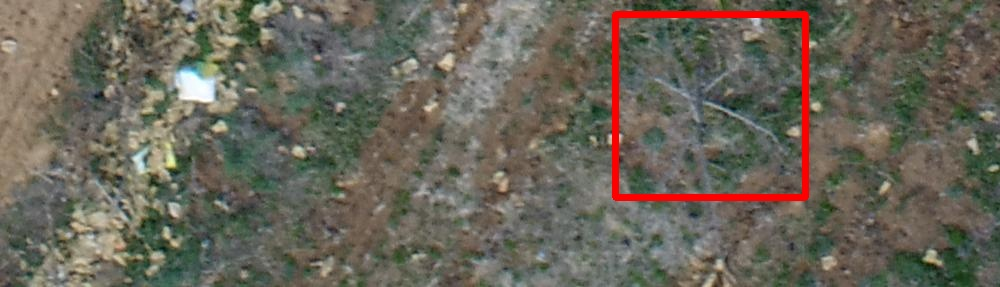apple: (615, 14, 805, 197)
